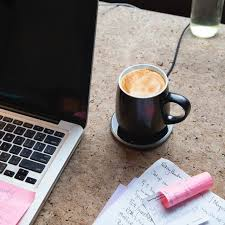cup: (114, 62, 193, 139)
